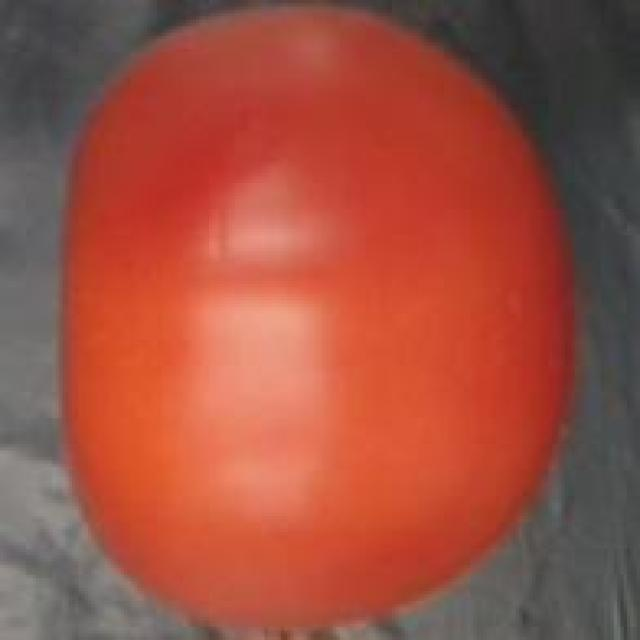ripe tomato: (52, 0, 581, 637)
